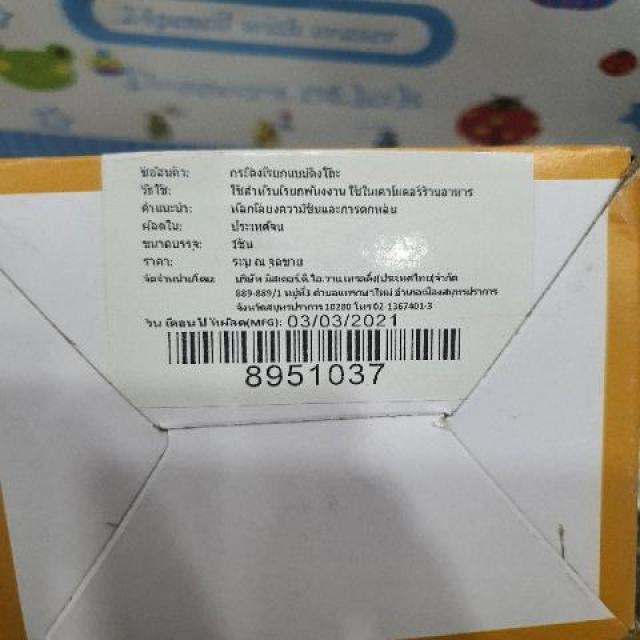Barcode: (145, 323, 479, 386)
